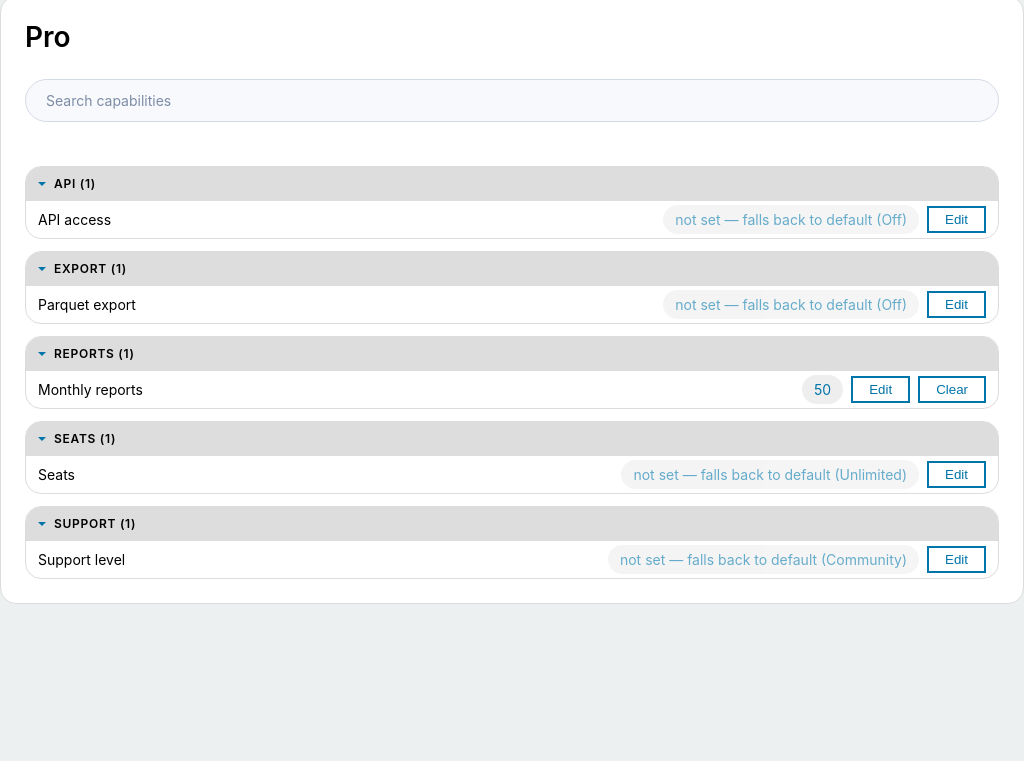
Test case: PlanEditorRoute › shows a non-dismissable affected-account banner and a diff on review
Expected: the text "not set — falls back to default (Off)" in the row of "API access" is shown, [663,205,919,234]
Click the button "Edit" in the row of "API access".
click(956, 219)  # box [927,206,986,233]
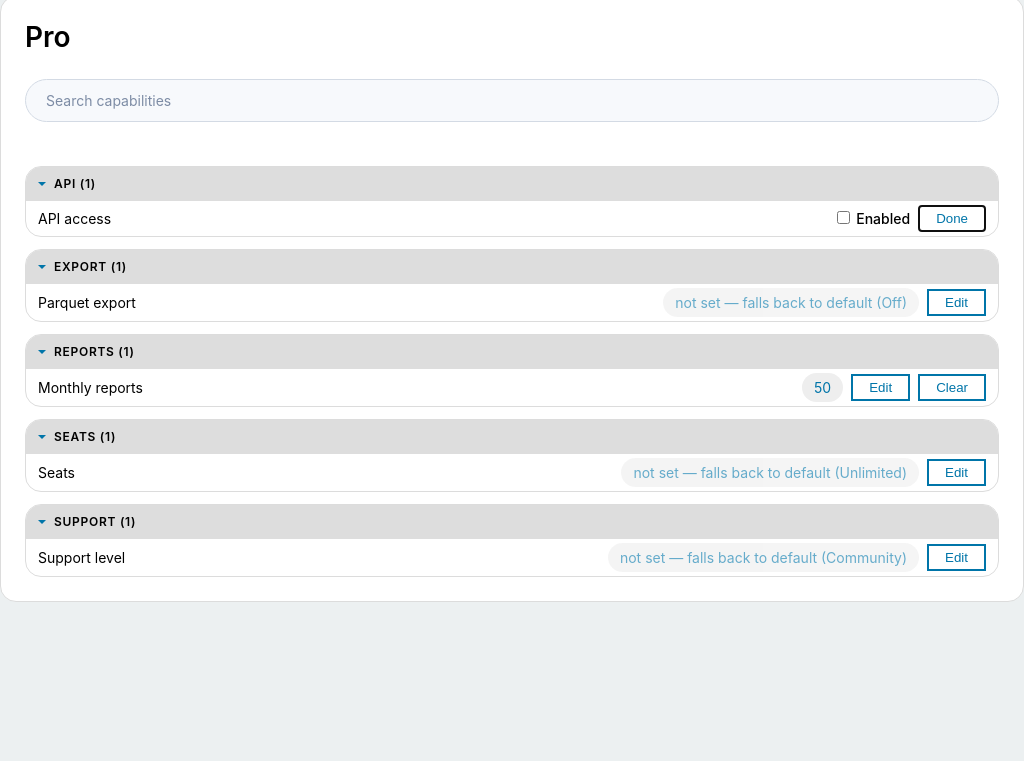
Click the checkbox labelled "Enabled".
click(843, 217)  # box [836,211,850,224]
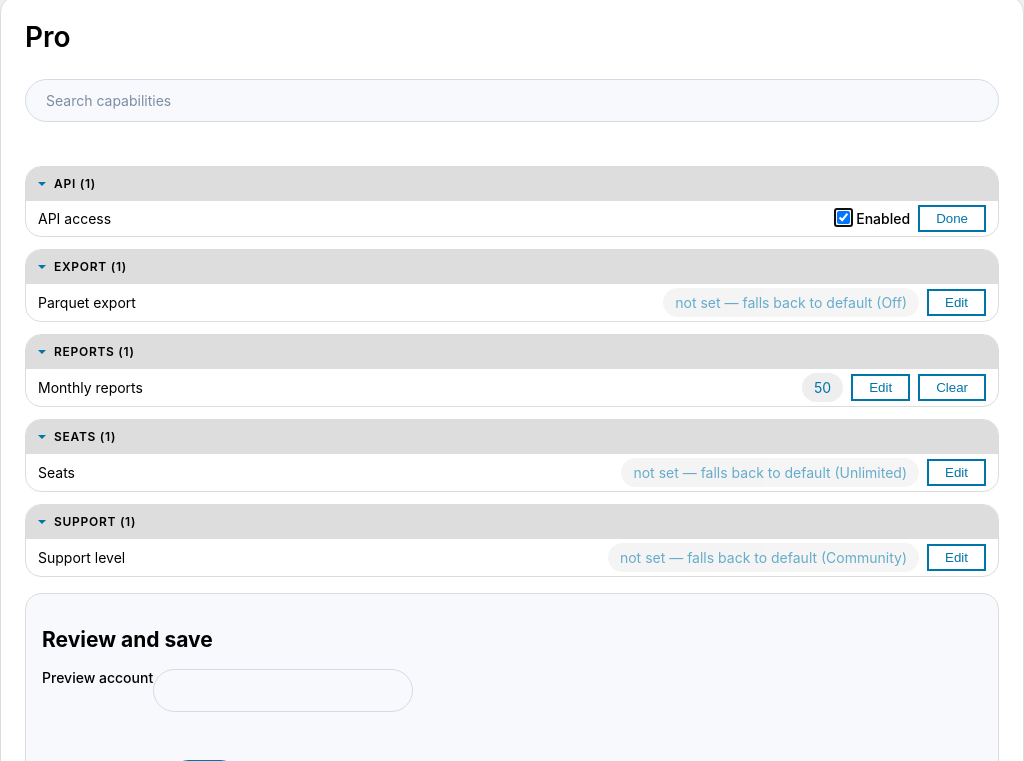
Click the button "Done".
click(952, 218)  # box [918,205,986,232]
(page scrolled)
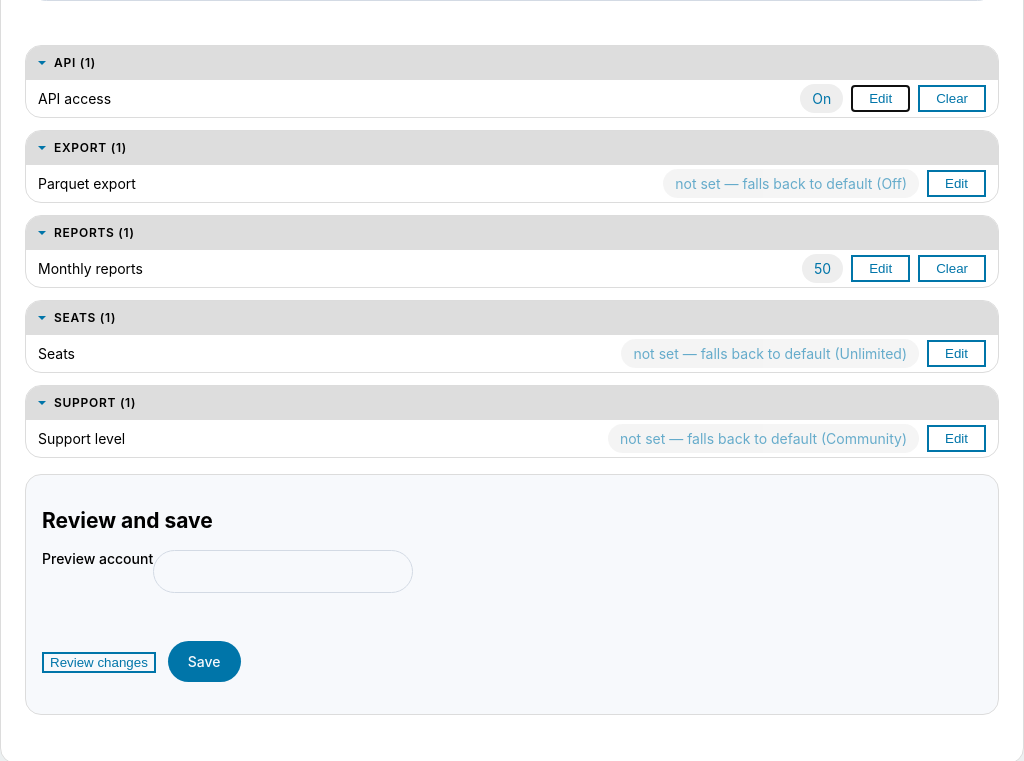
Click the button "Review changes".
click(99, 663)  # box [42,652,156,673]
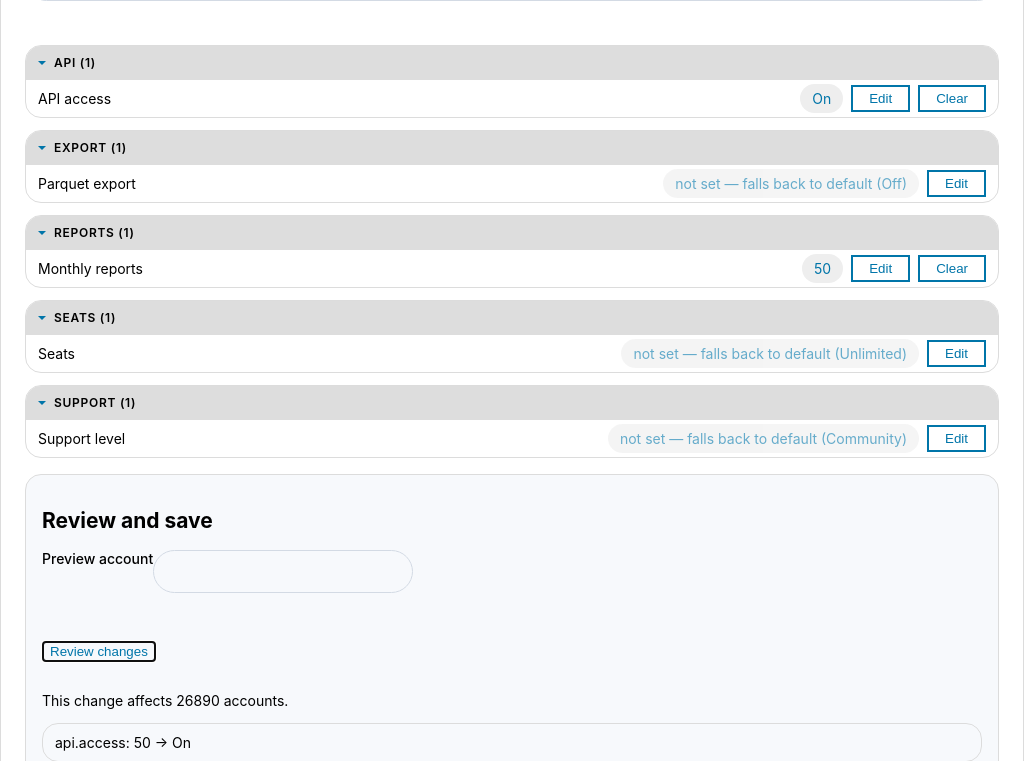
Now the text "This change affects 26890 accounts." is shown, box [42,692,288,709]
